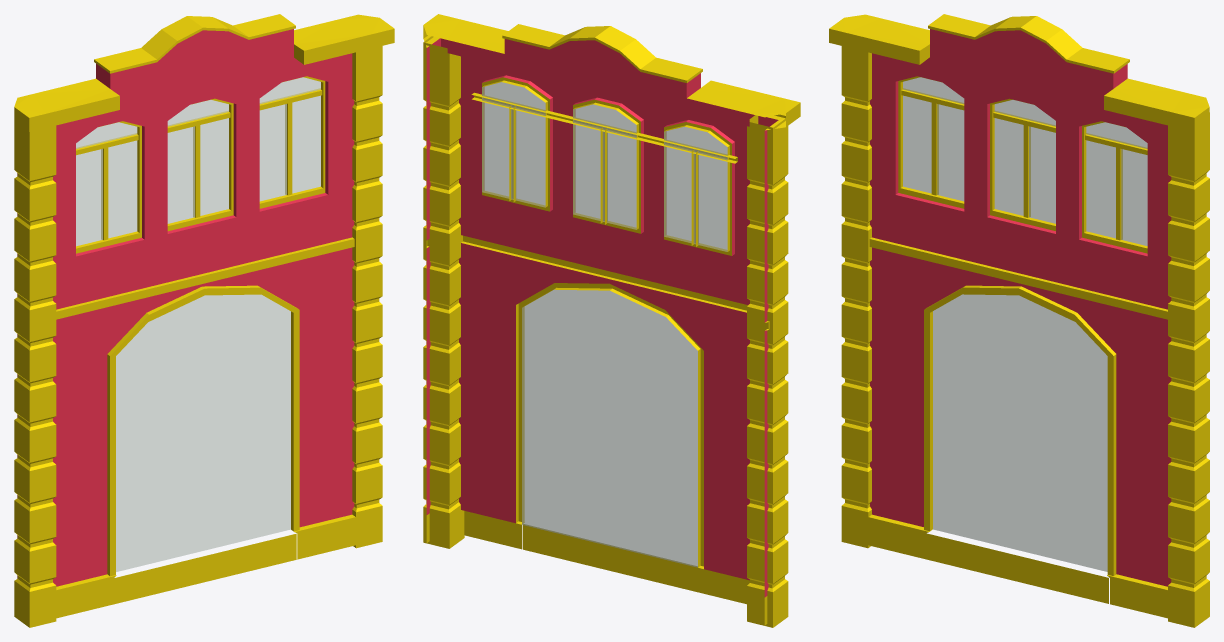
Rendered from öncephe_denemee.obj.
The picture shows the model from 3 angles, left to right: view 1: azimuth 30°, elevation 25°; view 2: azimuth 150°, elevation 25°; view 3: azimuth 330°, elevation 25°; orthographic projection.
Visible parts, largest first — view 1: Cube.002_Cube.001_m_koyupembe, Cube.002_Cube.001_yellow, Cube.002_Cube.001_window_glass; view 2: Cube.002_Cube.001_m_koyupembe, Cube.002_Cube.001_yellow, Cube.002_Cube.001_window_glass; view 3: Cube.002_Cube.001_m_koyupembe, Cube.002_Cube.001_yellow, Cube.002_Cube.001_window_glass.
Part boxes in pixels (x1,y1,x2,y2): Cube.002_Cube.001_m_koyupembe: [17, 29, 354, 586]; Cube.002_Cube.001_yellow: [14, 14, 394, 627]; Cube.002_Cube.001_window_glass: [76, 77, 320, 571]; Cube.002_Cube.001_m_koyupembe: [426, 38, 778, 597]; Cube.002_Cube.001_yellow: [423, 14, 800, 627]; Cube.002_Cube.001_window_glass: [482, 82, 727, 567]; Cube.002_Cube.001_m_koyupembe: [870, 29, 1171, 586]; Cube.002_Cube.001_yellow: [829, 14, 1209, 627]; Cube.002_Cube.001_window_glass: [903, 77, 1147, 571].
Size of the model in its own units: 103 by 150 by 12.23.
